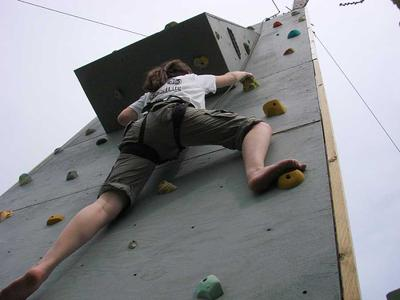person: (4, 61, 306, 300)
